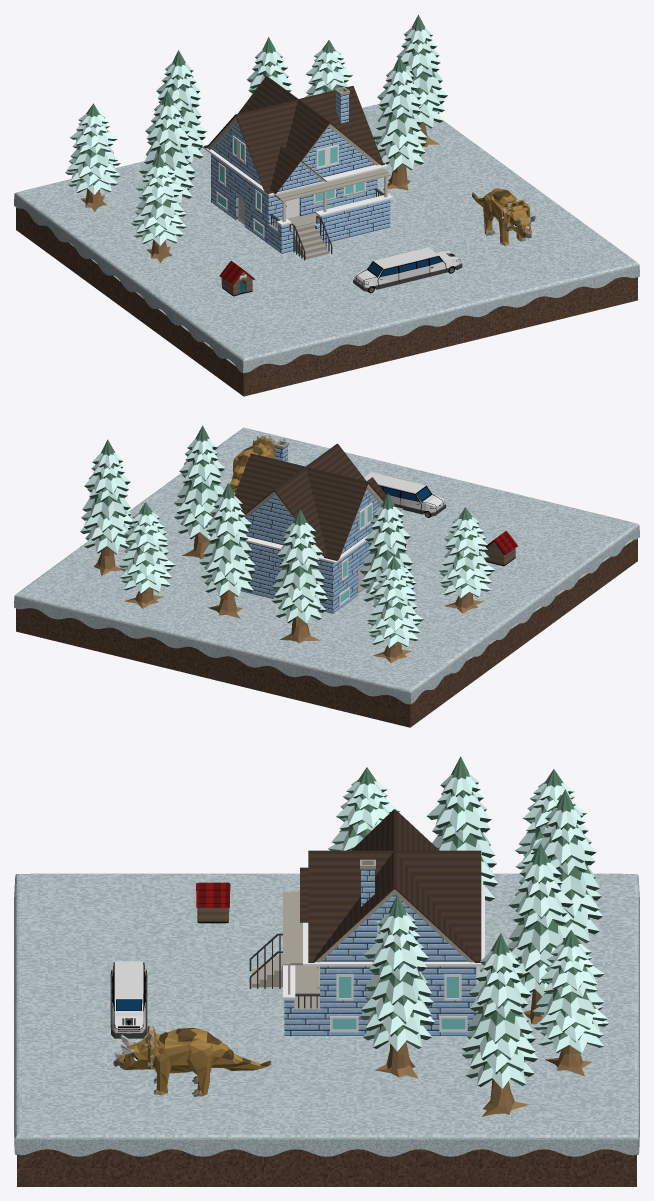
3 renders of one model, top to bottom at view 1: azimuth 30°, elevation 25°; view 2: azimuth 150°, elevation 25°; view 3: azimuth 270°, elevation 25°, orthographic. The views are drawn at different scales.
Parts seen in each view (by area): view 1: Cube.003, Cube.547, VEHICLES_LIMOUSINE, ANIMAL_Triceratops, OBJRANDOM_DOGHOUSE; view 2: Cube.003, Cube.547, VEHICLES_LIMOUSINE, ANIMAL_Triceratops, OBJRANDOM_DOGHOUSE; view 3: Cube.003, Cube.547, ANIMAL_Triceratops, VEHICLES_LIMOUSINE, OBJRANDOM_DOGHOUSE.
Part boxes in pixels (left/top/right/bottom): Cube.003: left=14, top=14, right=639, bottom=396; Cube.547: left=202, top=76, right=393, bottom=260; VEHICLES_LIMOUSINE: left=353, top=247, right=462, bottom=293; ANIMAL_Triceratops: left=472, top=188, right=535, bottom=245; OBJRANDOM_DOGHOUSE: left=219, top=261, right=254, bottom=296; Cube.003: left=14, top=425, right=639, bottom=727; Cube.547: left=235, top=440, right=405, bottom=613; VEHICLES_LIMOUSINE: left=364, top=472, right=446, bottom=517; ANIMAL_Triceratops: left=229, top=435, right=285, bottom=492; OBJRANDOM_DOGHOUSE: left=485, top=531, right=517, bottom=566; Cube.003: left=14, top=756, right=639, bottom=1186; Cube.547: left=249, top=809, right=484, bottom=1035; ANIMAL_Triceratops: left=113, top=1023, right=271, bottom=1096; VEHICLES_LIMOUSINE: left=110, top=961, right=147, bottom=1038; OBJRANDOM_DOGHOUSE: left=196, top=882, right=230, bottom=923.
Size of the model in its own units: 4040 by 1665 by 4040.
36 materials, 4 textured.
